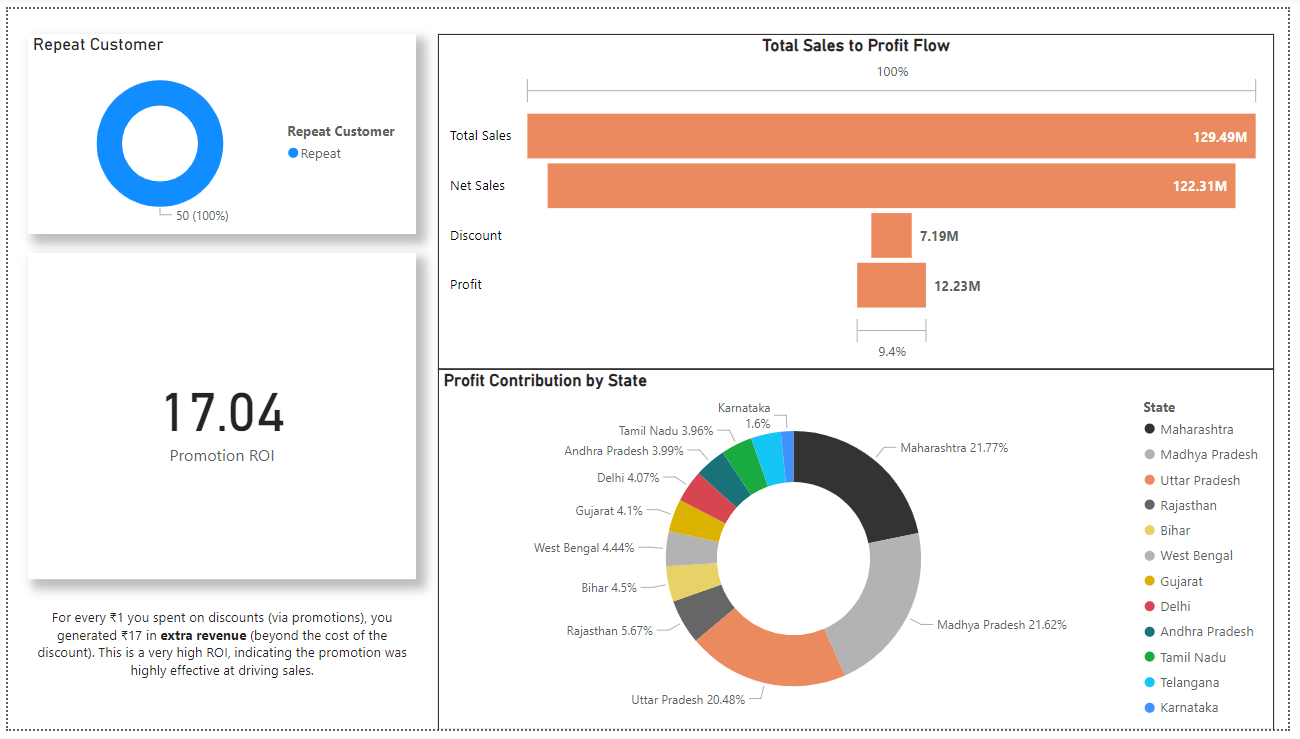

Layout of this report page (visuals, bound fields, positions):
{"tool":"powerbi","page":{"name":"Mining II","canvas":[1280,720],"ordinal":9},"visuals":[{"type":"donutChart","title":"Repeat Customer","fields":{"Category":["Fact Table.Repeat Customer"],"Y":["CountNonNull(Dim Customers.Customer ID)"]},"box":[20.6,24.7,388.3,200.3],"z":0},{"type":"card","fields":{"Values":["Sum(Fact Table.Promotion ROI)"]},"box":[20.6,244.3,388.3,326.6],"z":1000},{"type":"textbox","box":[20.6,594.2,388.3,116.6],"z":2000},{"type":"funnel","title":"Total Sales to Profit Flow","fields":{"Y":["Sum(Fact Table.Total Sales)","Sum(Fact Table.Net Sales)","Sum(Fact Table.Discount Value)","Sum(Fact Table.Profit)"]},"box":[429.5,24.7,835.7,334.8],"z":3000},{"type":"donutChart","title":"Profit Contribution by State","fields":{"Y":["Sum(Fact Table.Profit Contribution)"],"Category":["Dim Customers.State"]},"box":[429.5,359.5,835.7,360.9],"z":4000}]}

Visuals, with their boxes in screenshot pixels (x1, y1, x2, y2), scaled from the page's 1280x720 canvas onto the 1300x739 screenshot:
"Repeat Customer" donutChart: crop(21, 25, 415, 231)
card - Sum(Fact Table.Promotion ROI): crop(21, 251, 415, 586)
textbox: crop(21, 610, 415, 730)
"Total Sales to Profit Flow" funnel: crop(436, 25, 1285, 369)
"Profit Contribution by State" donutChart: crop(436, 369, 1285, 738)
